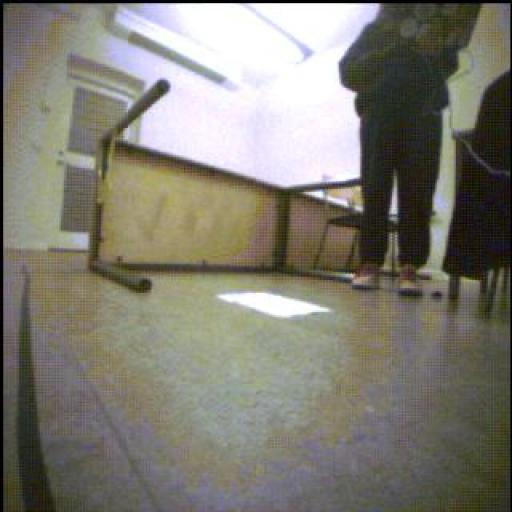Pad: (219, 294, 331, 319)
